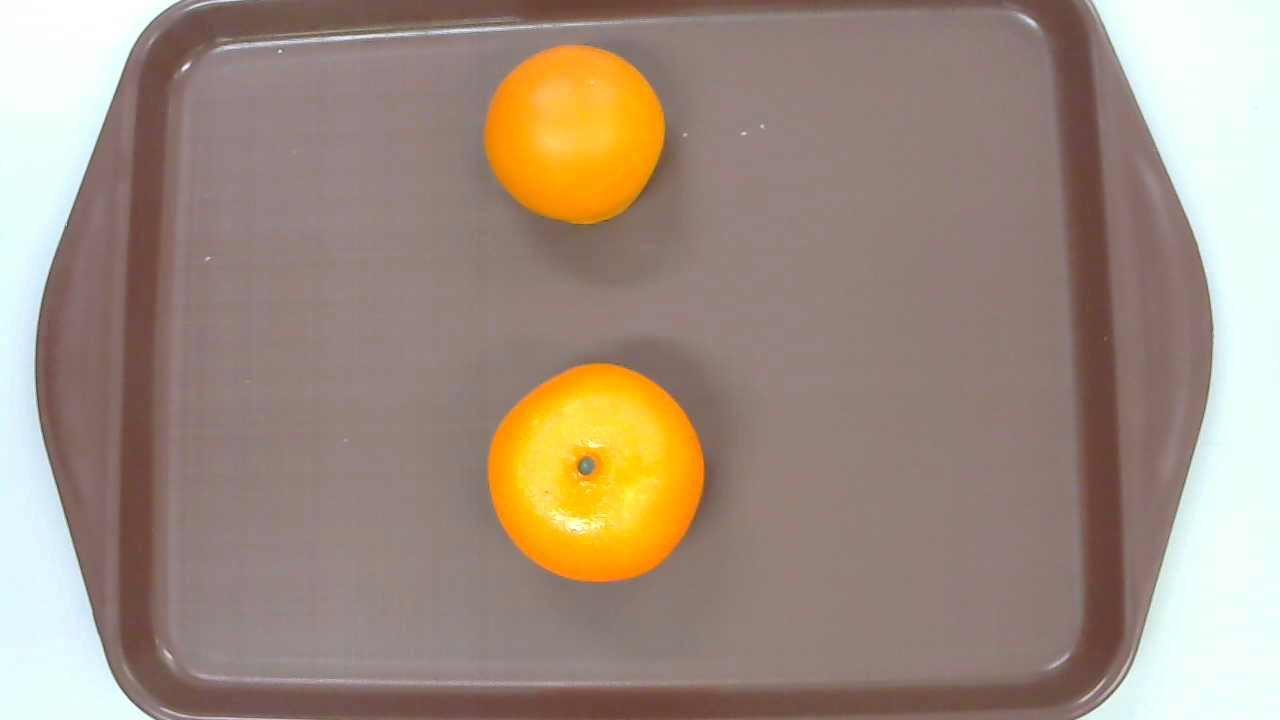bun: (484, 43, 666, 224)
orange: (487, 362, 706, 583)
